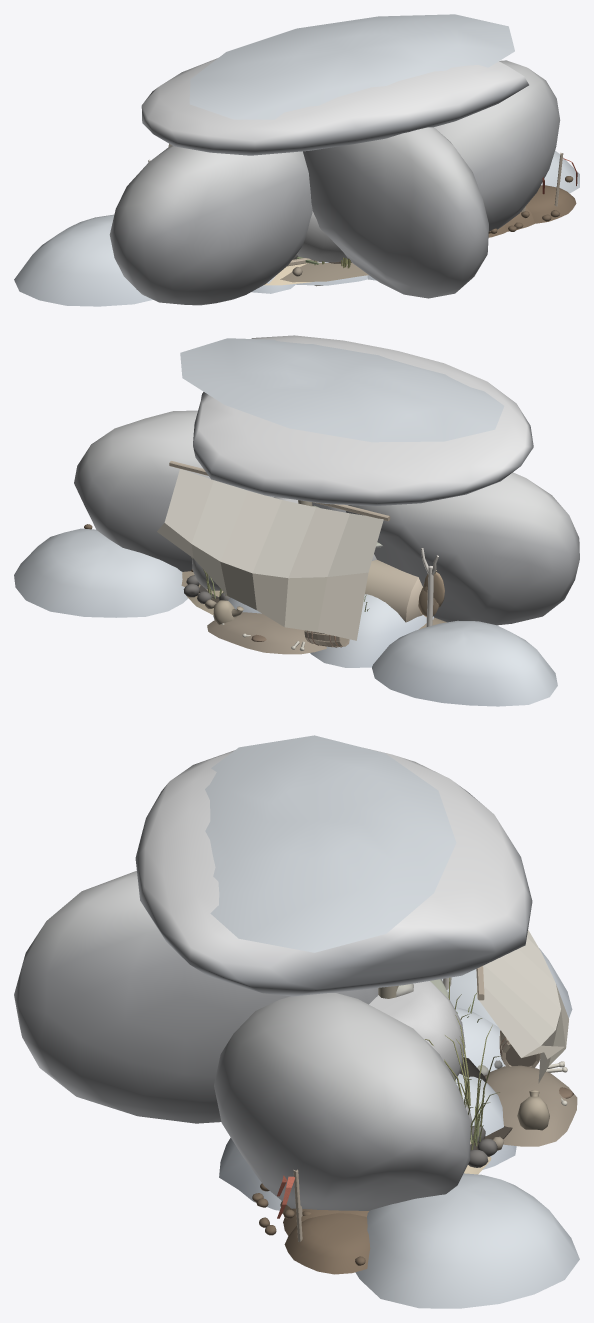
File: stashes.glb
The picture shows the model from 3 angles, top to bottom: view 1: azimuth 30°, elevation 25°; view 2: azimuth 150°, elevation 25°; view 3: azimuth 270°, elevation 25°; orthographic projection. The views are drawn at different scales.
Visible parts, largest first — view 1: castaway_grotto, stash_fish_basket, stash_snare_line, den_wolverine, stash_camel_pack, stash_boat_crate; view 2: castaway_grotto, den_wolverine, stash_hollow_log, stash_snare_line; view 3: castaway_grotto, den_wolverine, stash_snare_line, stash_frozen_bundle, stash_fish_basket, stash_sunken_crate.
Part boxes in pixels (x1,y1,x2,y2): castaway_grotto: [14, 14, 579, 306]; stash_fish_basket: [280, 178, 544, 282]; stash_snare_line: [148, 152, 577, 223]; den_wolverine: [251, 211, 376, 293]; stash_camel_pack: [264, 222, 523, 285]; stash_boat_crate: [287, 258, 367, 285]; castaway_grotto: [14, 335, 579, 706]; den_wolverine: [192, 497, 433, 667]; stash_hollow_log: [192, 559, 422, 622]; stash_snare_line: [84, 524, 446, 629]; castaway_grotto: [14, 735, 579, 1308]; den_wolverine: [219, 981, 577, 1210]; stash_snare_line: [259, 977, 484, 1274]; stash_frozen_bundle: [455, 1073, 516, 1169]; stash_fish_basket: [252, 1015, 501, 1235]; stash_sunken_crate: [302, 977, 512, 1215].
Size of the model in its own units: 6.54 by 2.96 by 4.25.
